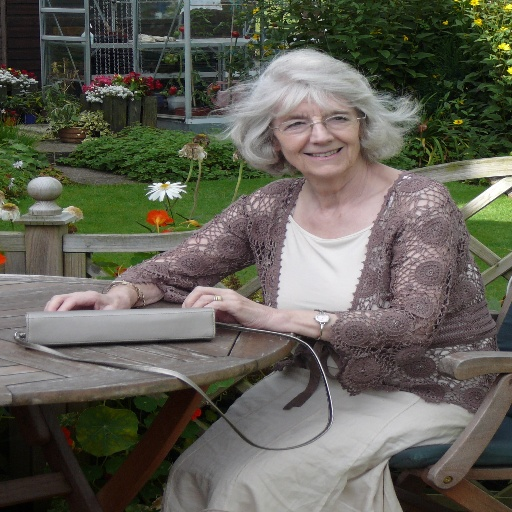hand: (186, 289, 348, 344), (40, 289, 133, 311)
